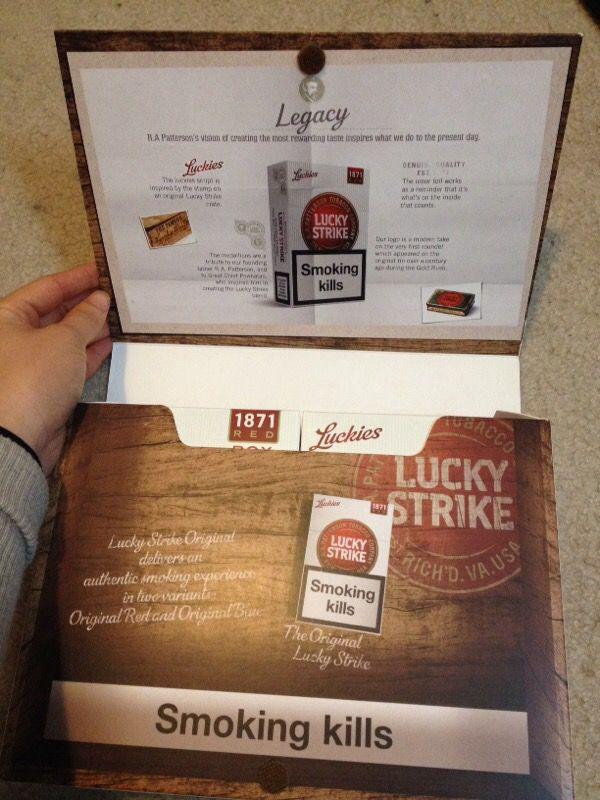lucky_strike_red: (290, 169, 363, 305), (308, 500, 385, 625)
